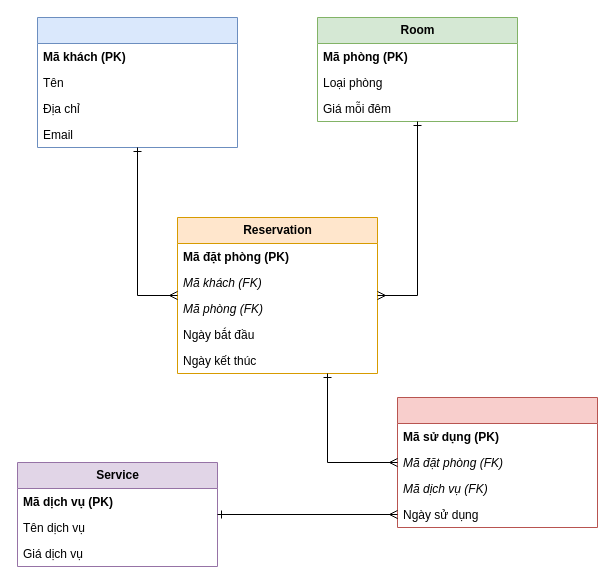
The diagram is 615 pixels wide and 584 high, and some of its shapes have lost their labels. The box of each missing label's shape, as (x1, y1, x2, y2) in pixels:
Guest: (36, 16, 238, 148)
ServiceUsage: (396, 396, 598, 528)
